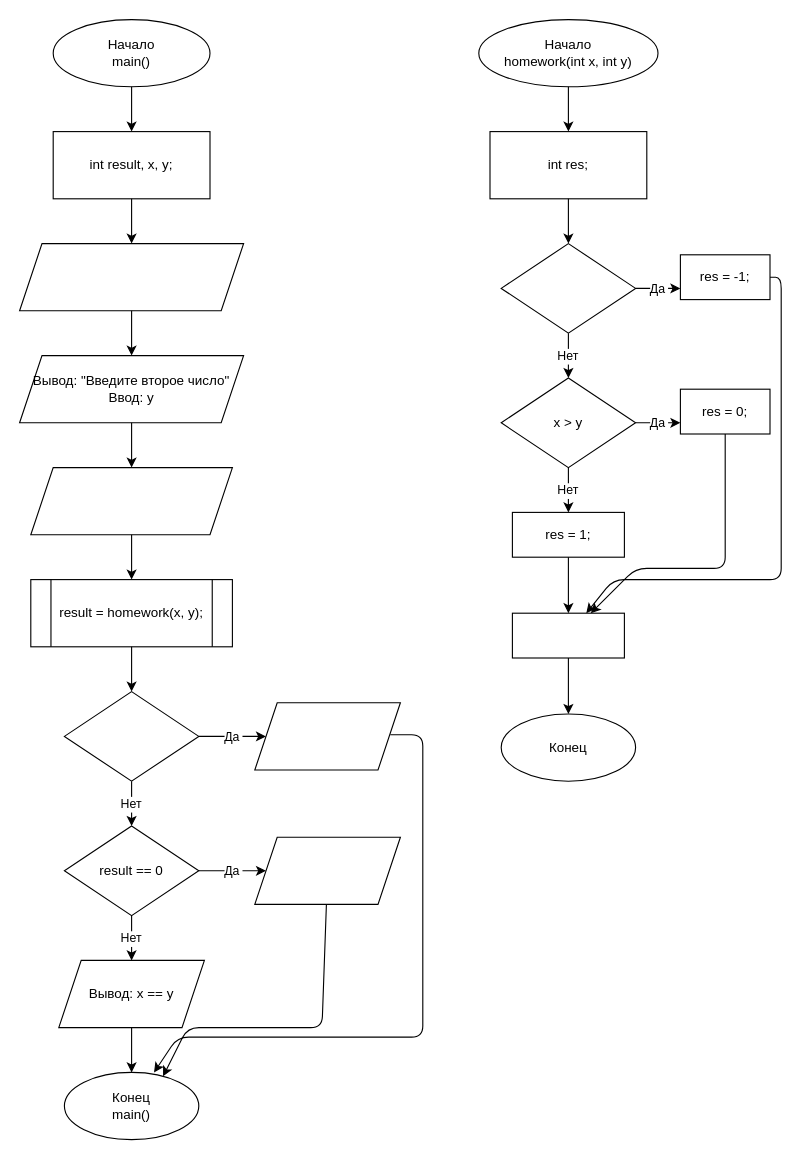
Some shapes in this 810 by 1159 pixel diagram are drawn without their labels. The shapes that lost their labels are listed below. From the top down, each one's centre as x and y in pixels, then its label:
(131,276): Вывод: "Введите первое число" Ввод: x
(568,287): x < y
(131,500): Вывод: "X = ..., Y = ..."
(567,635): return res;
(131,735): result == -1
(327,736): Вывод: x < y
(327,870): Вывод: x > y
